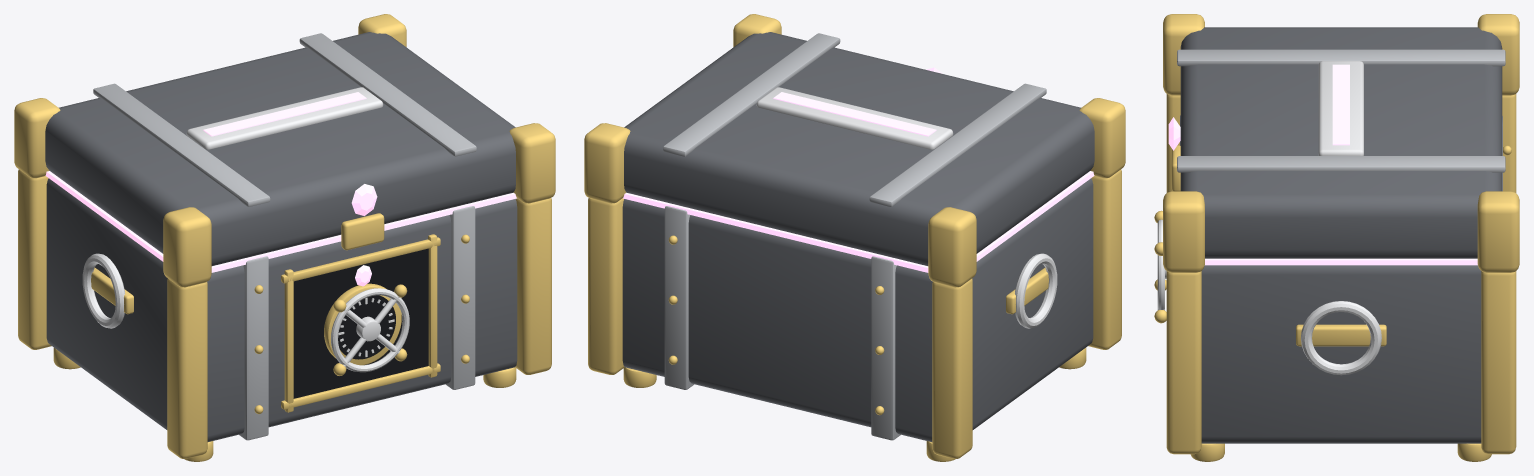
File: SM_DepositChest_Crimson.fbx
The picture shows the model from 3 angles, left to right: view 1: azimuth 30°, elevation 25°; view 2: azimuth 150°, elevation 25°; view 3: azimuth 270°, elevation 25°; orthographic projection. The views are drawn at different scales.
Parts seen in each view (by area): view 1: SM_DepositChest_Crimson, Lid; view 2: SM_DepositChest_Crimson, Lid; view 3: Lid, SM_DepositChest_Crimson.
Boxes of the visible parts, x1,y1,x2,y2 form: SM_DepositChest_Crimson: [18, 169, 551, 461]; Lid: [14, 14, 555, 287]; SM_DepositChest_Crimson: [588, 169, 1121, 461]; Lid: [584, 14, 1125, 287]; Lid: [1163, 14, 1519, 272]; SM_DepositChest_Crimson: [1154, 94, 1516, 461].
Bounding box in the file's own units: 1.32 × 0.863 × 1.04.
